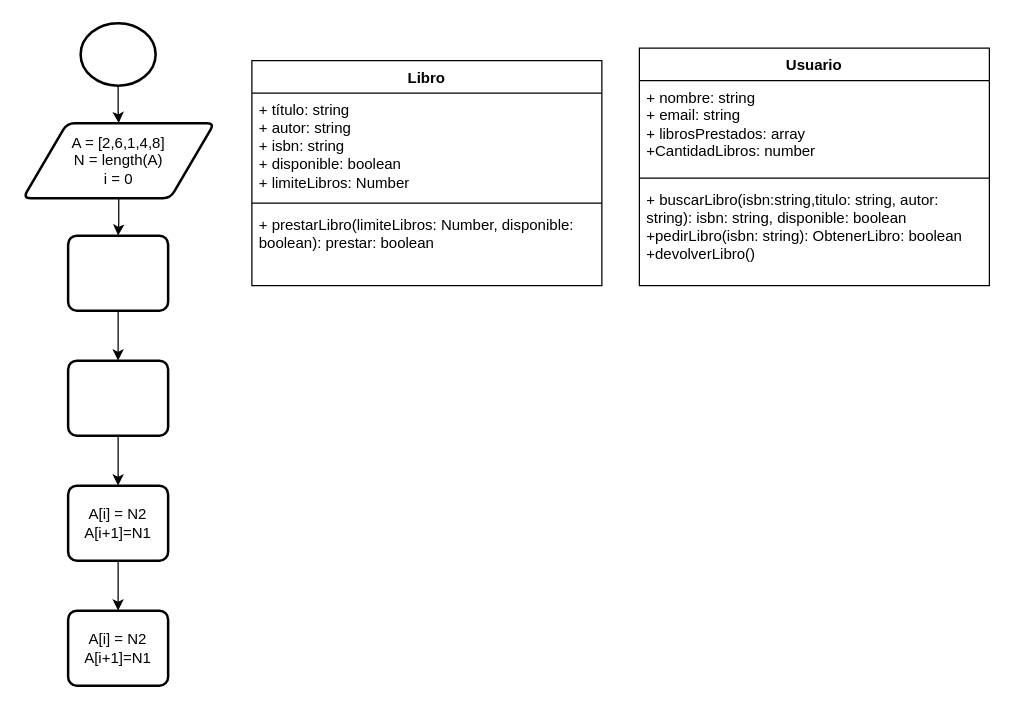
Image size: 1011x708. Some labels were removed from this diagram. The shapes that lost their labels are listed below. From the top down, each one's centre as x and y in pixels, then its label:
At point 117,53: "Start".
At point 117,272: "While A(i) < A(i+1)".
At point 117,397: "i = i+1 N1 = A[i] N2 = A[i+1]".
